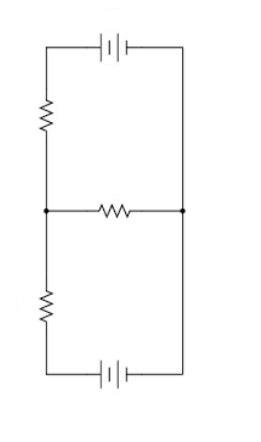resistor: (24, 272, 64, 336), (27, 80, 65, 147), (84, 192, 147, 223)
